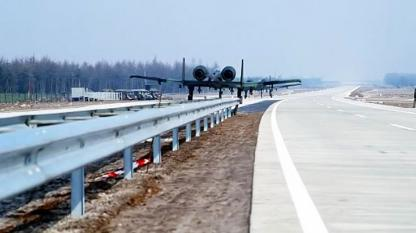A10: (129, 56, 301, 103), (244, 74, 302, 98)
